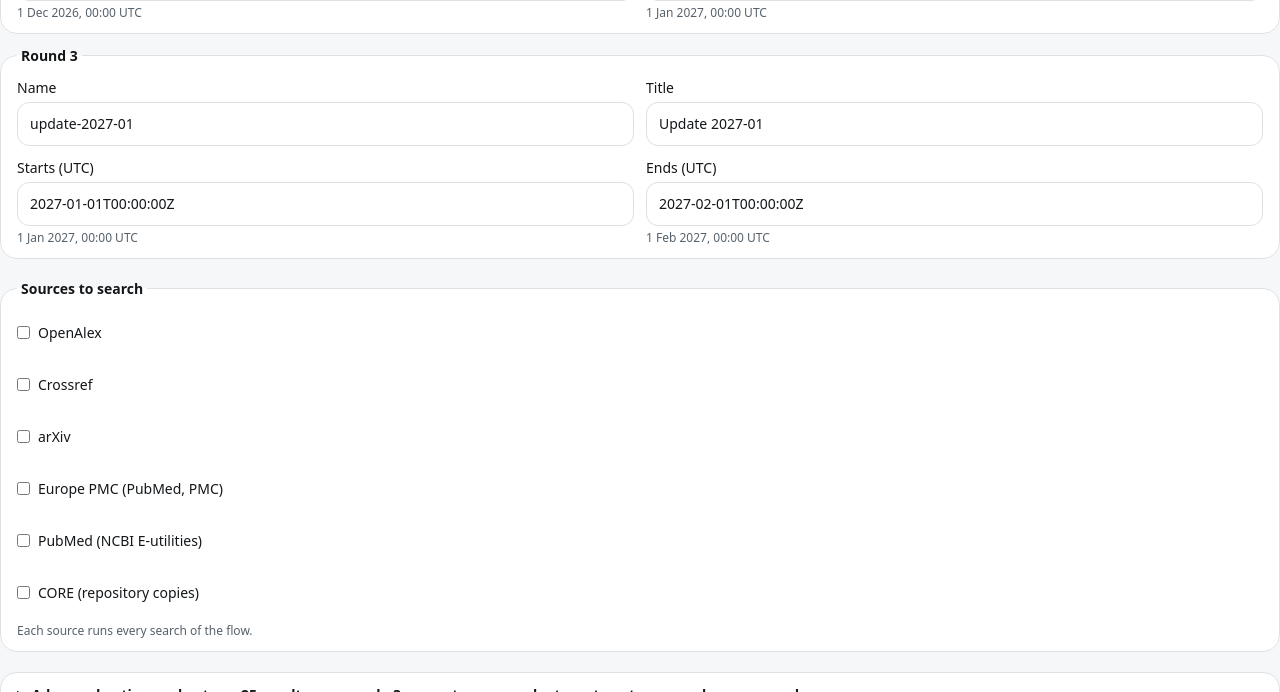
Test: New series › a start in the past is refused early, in words, and linked to its round
(page scrolled)
Click the checkbox labelled "OpenAlex" at (24, 332), box [17,326,30,339]
(page scrolled)
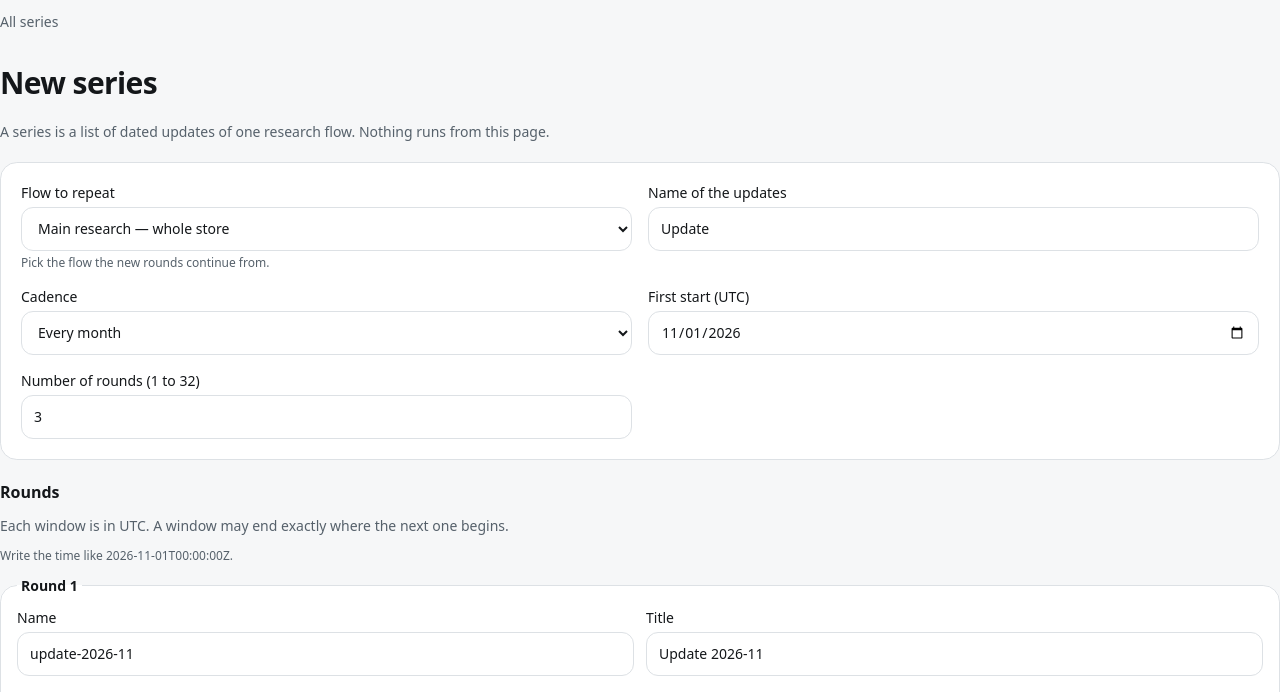
Type "2026-10-01" into the date field labelled "First start (UTC)" at (954, 332), box [648,310,1259,354]
(page scrolled)
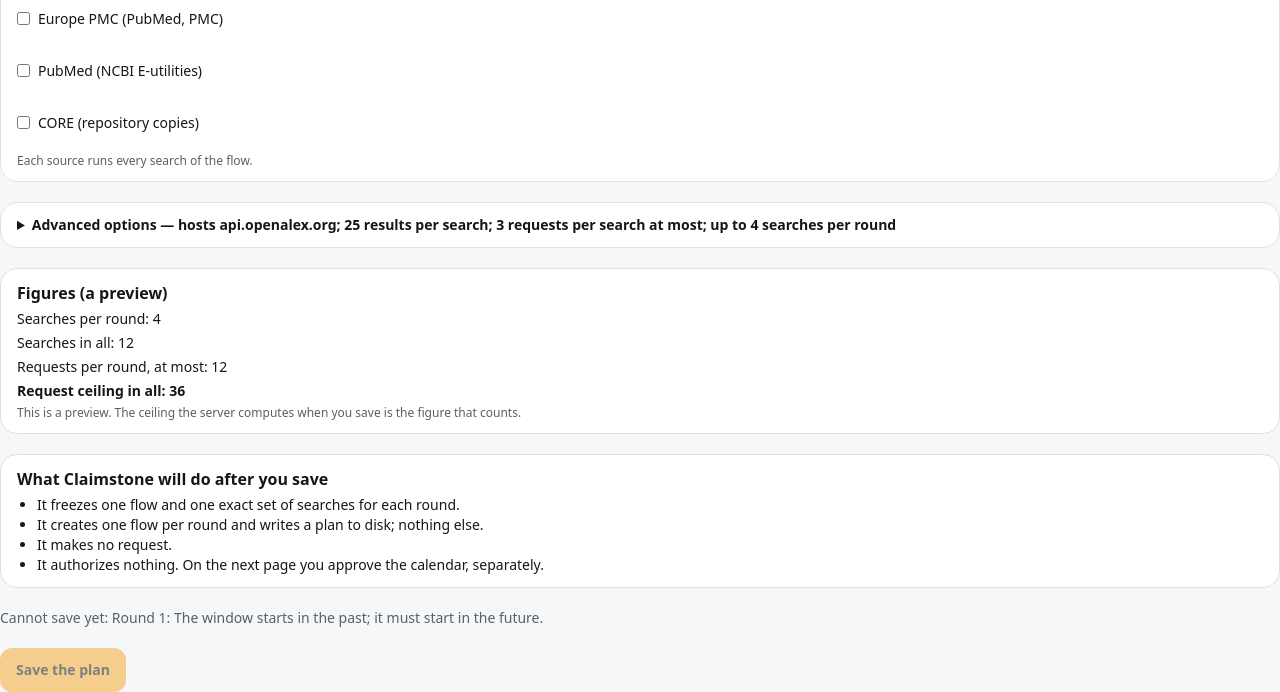
Expected: the button "Save the plan" is disabled, [0,648,126,691]
